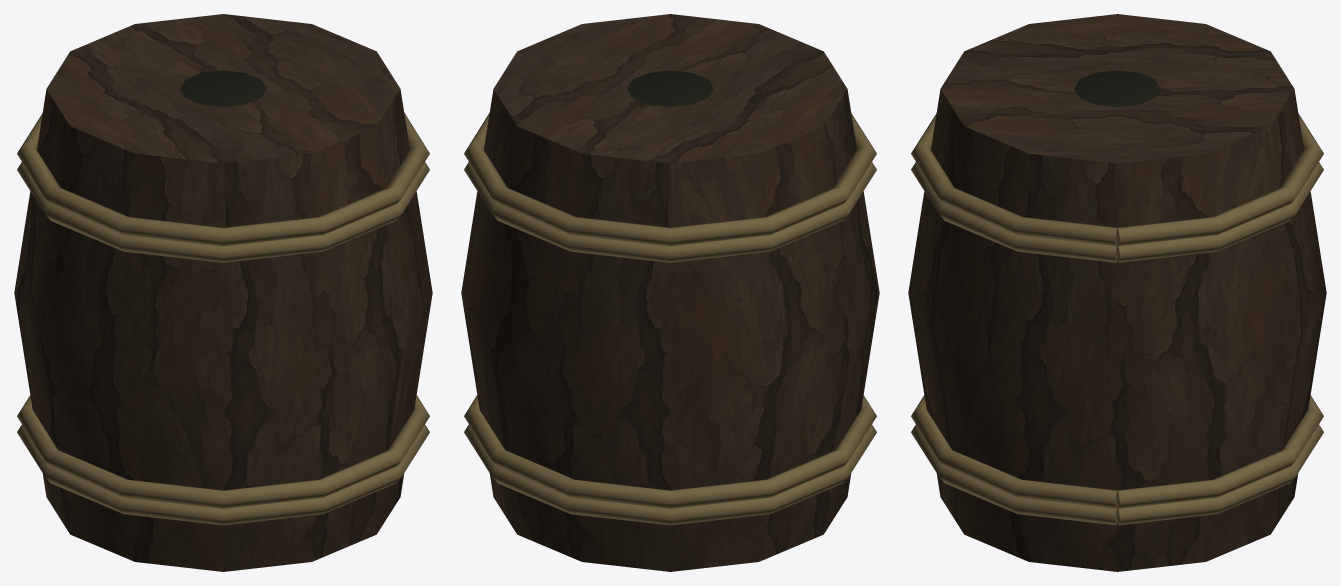
3 renders of one model, left to right at view 1: azimuth 30°, elevation 25°; view 2: azimuth 150°, elevation 25°; view 3: azimuth 270°, elevation 25°, orthographic.
Parts seen in each view (by area): view 1: Wooden rain barrel; view 2: Wooden rain barrel; view 3: Wooden rain barrel.
Part boxes in pixels (<box>): Wooden rain barrel: <box>14,14,432,571</box>; Wooden rain barrel: <box>461,14,879,571</box>; Wooden rain barrel: <box>908,14,1326,571</box>.
Size of the model in its own units: 1.3 by 1.4 by 1.3.
3 materials, 1 textured.
